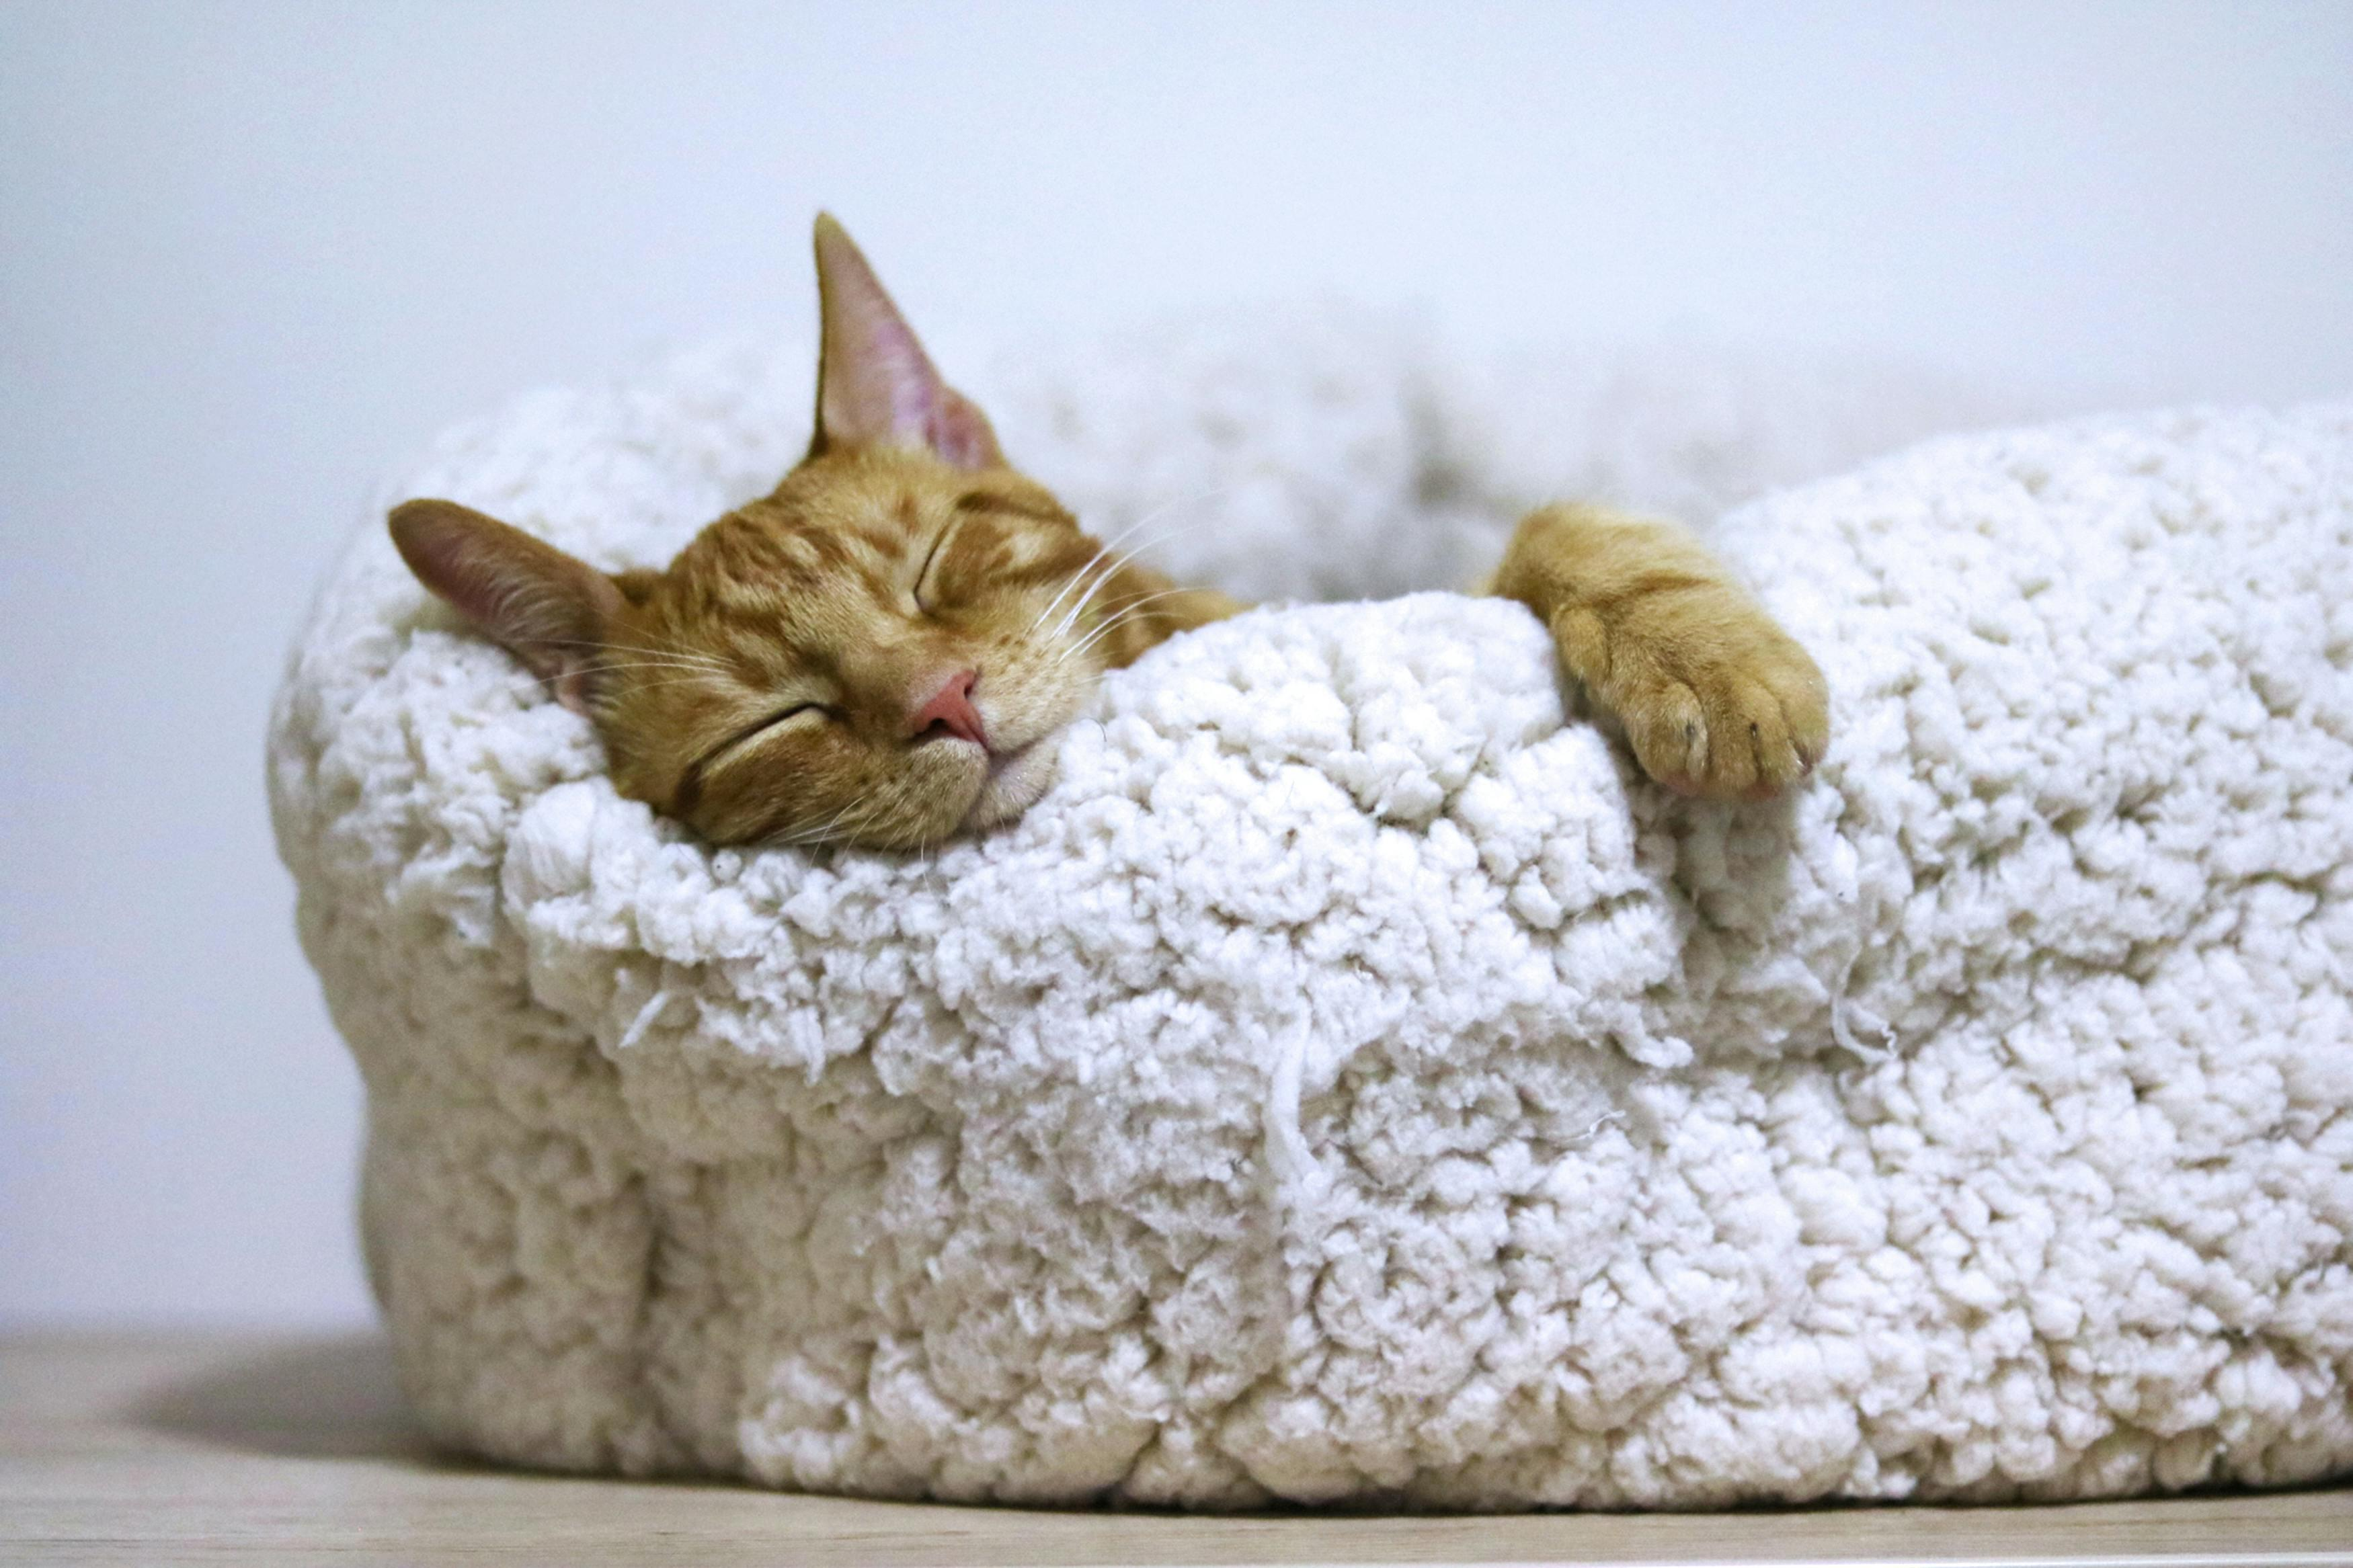kedo: (390, 215, 1098, 854)
